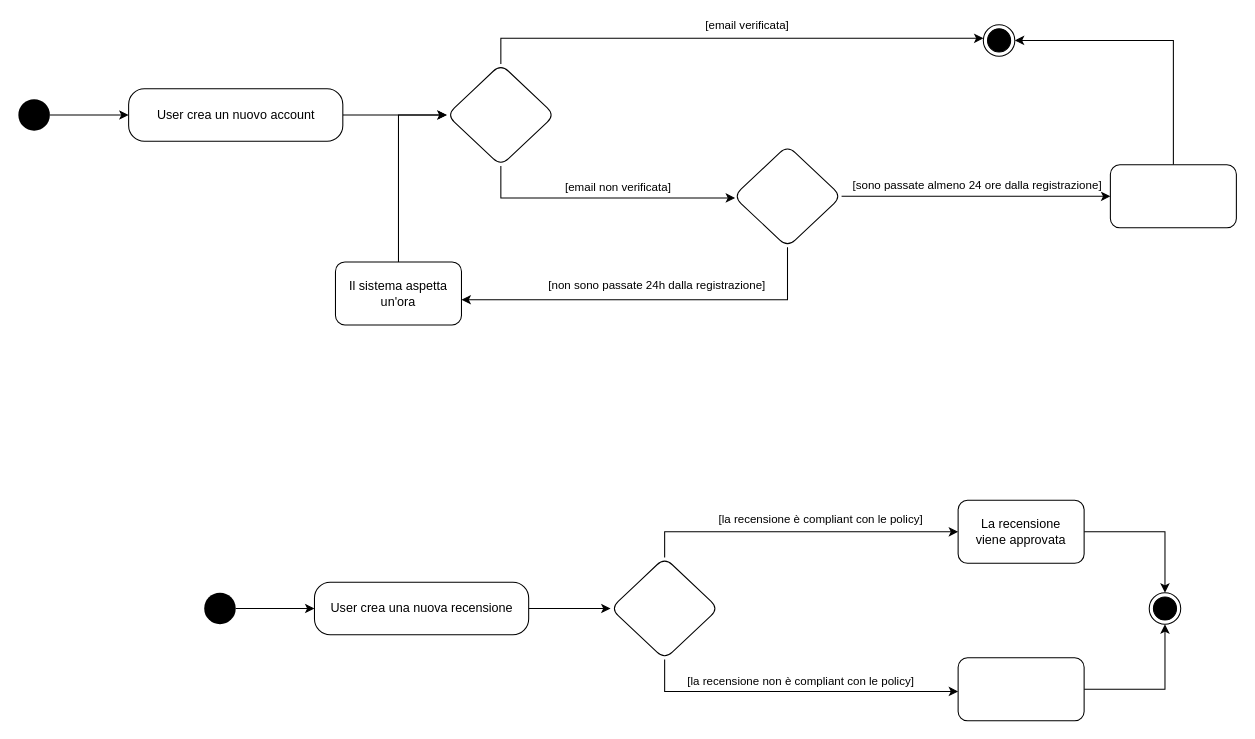
The diagram is 1255 pixels wide and 739 high, and some of its shapes have lost their labels. Each missing label, with the centre of its shape:
"Il sistema cancella l'account" goes at pixel 1172 196.
"La recensione non viene approvata" goes at pixel 1020 689.
